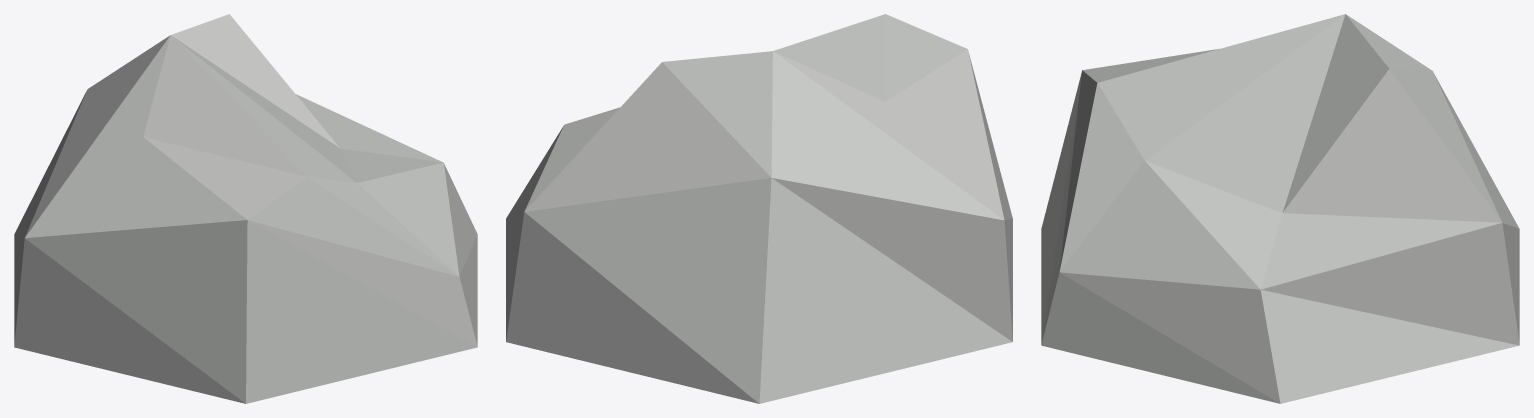
File: Rock_Light_2.fbx
The picture shows the model from 3 angles, left to right: view 1: azimuth 30°, elevation 25°; view 2: azimuth 150°, elevation 25°; view 3: azimuth 270°, elevation 25°; orthographic projection. The views are drawn at different scales.
Visible parts, largest first — view 1: Rock_Light_2; view 2: Rock_Light_2; view 3: Rock_Light_2.
Part boxes in pixels (<box>): Rock_Light_2: <box>14,14,477,403</box>; Rock_Light_2: <box>506,14,1012,403</box>; Rock_Light_2: <box>1041,14,1519,403</box>.
Size of the model in its own units: 1.46 by 0.7304 by 1.26.
